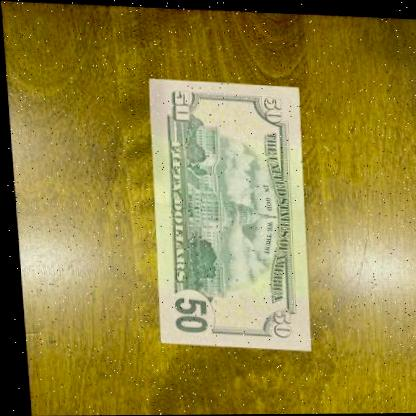fifty-back: (137, 73, 313, 349)
